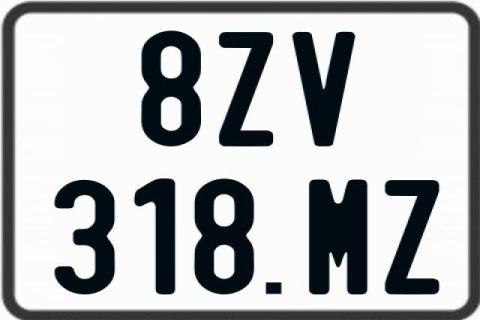0: (191, 177, 256, 296), (141, 28, 207, 144), (54, 179, 114, 293), (131, 176, 174, 294)
M: (306, 178, 369, 294)
V: (290, 31, 356, 145)
Z: (384, 180, 441, 294), (218, 31, 274, 147)
